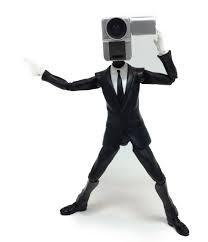no more kid: (99, 14, 157, 63)
